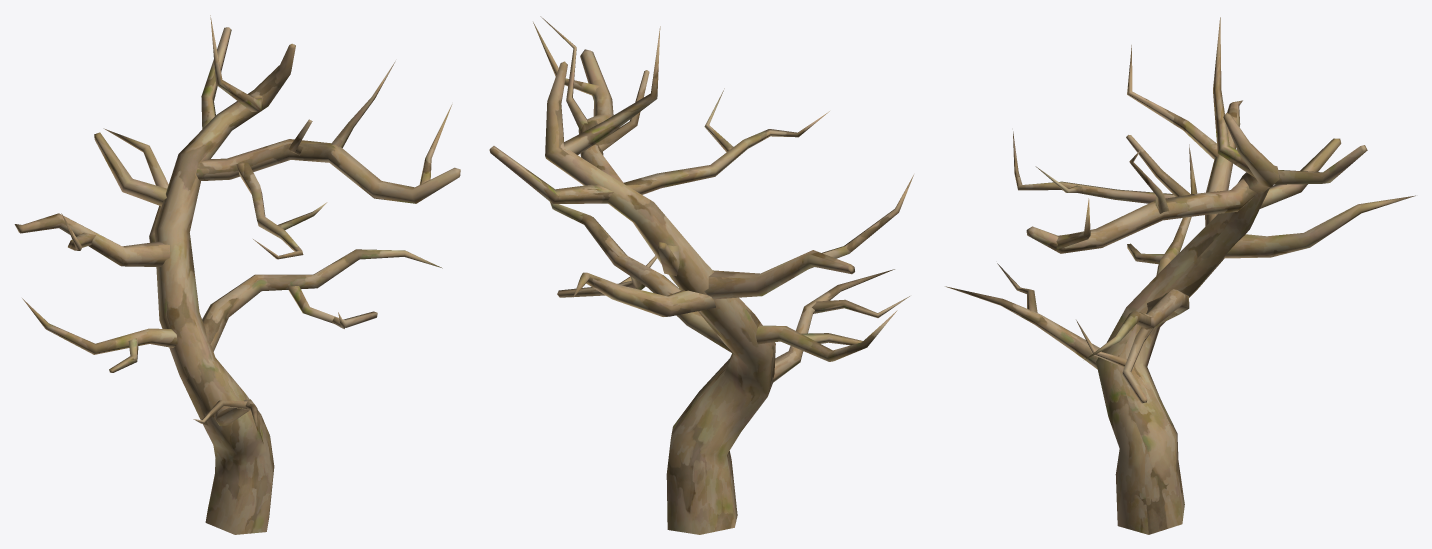
The model's file is P_KnotwoodDead01.obj.
The picture shows the model from 3 angles, left to right: view 1: azimuth 30°, elevation 25°; view 2: azimuth 150°, elevation 25°; view 3: azimuth 270°, elevation 25°; orthographic projection. The views are drawn at different scales.
Bounding box in the file's own units: 10.65 × 12.83 × 10.85.
